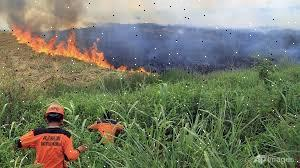fire: (6, 20, 156, 82)
